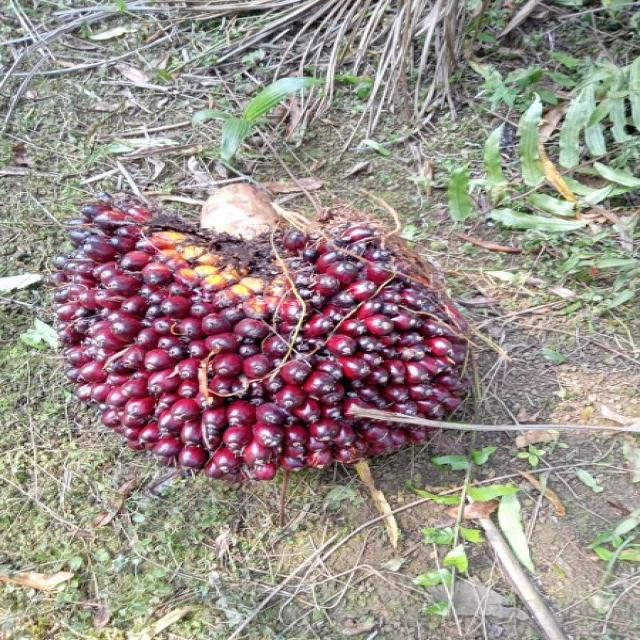fraksi 1: (8, 126, 550, 537)
